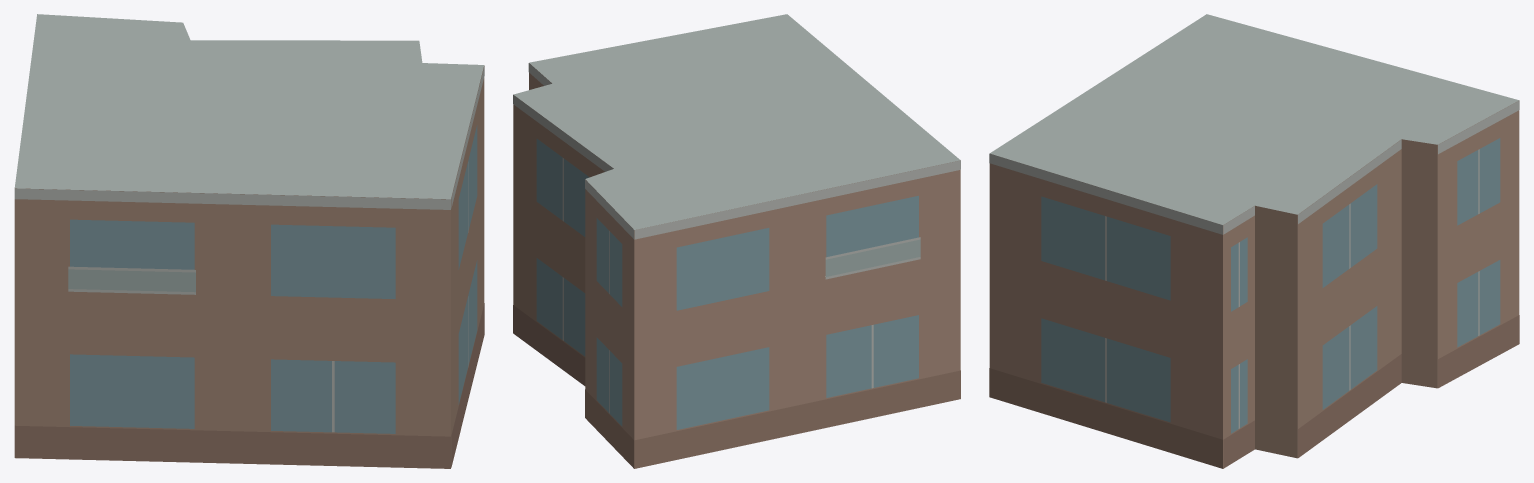
Rendered from survey-upis-32689147.glb.
3 views of the same model, side by side, from view 1: azimuth 30°, elevation 25°; view 2: azimuth 150°, elevation 25°; view 3: azimuth 270°, elevation 25° (orthographic). The views are drawn at different scales.
Parts seen in each view (by area): view 1: survey-upis-32689147.tmp; view 2: survey-upis-32689147.tmp; view 3: survey-upis-32689147.tmp.
Boxes of the visible parts, bbox=[...] form: survey-upis-32689147.tmp: bbox=[14, 14, 484, 468]; survey-upis-32689147.tmp: bbox=[513, 14, 960, 468]; survey-upis-32689147.tmp: bbox=[989, 14, 1519, 468].
Size of the model in its own units: 11.35 by 6.1 by 12.03.
